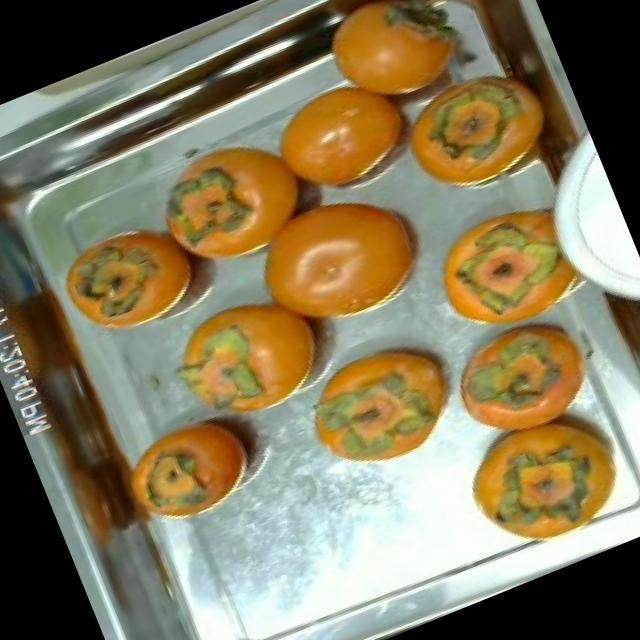Fruit: (221, 150, 469, 364), (372, 37, 584, 223), (404, 172, 611, 350), (249, 50, 449, 230), (284, 319, 486, 497), (426, 293, 624, 466), (134, 126, 326, 293), (39, 197, 224, 360), (111, 383, 290, 539), (303, 0, 496, 134)
